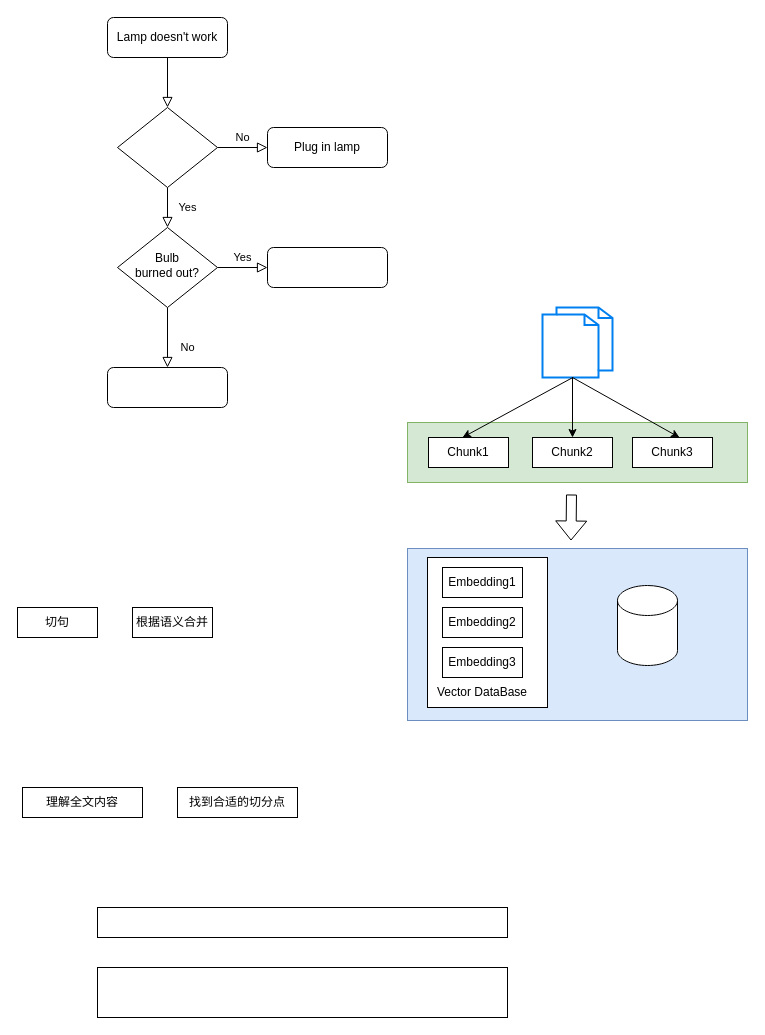
This 765x1035 diagram has some shape labels left out. The shapes that lost their labels are listed below. From the top down, each one's centre as x and y in pixels, then its label:
point 167,147: Lamp plugged in?
point 327,267: Replace Bulb
point 167,387: Repair Lamp
point 647,625: BM25 Database
point 302,922: 分词后统计词频，结合文档长度、以及超参来进行计算的
point 302,992: 分词后单词表示单词的向量是稀疏的，每个单词有个位置，如果文档中没有这个单词，那么这个位置就为0.
